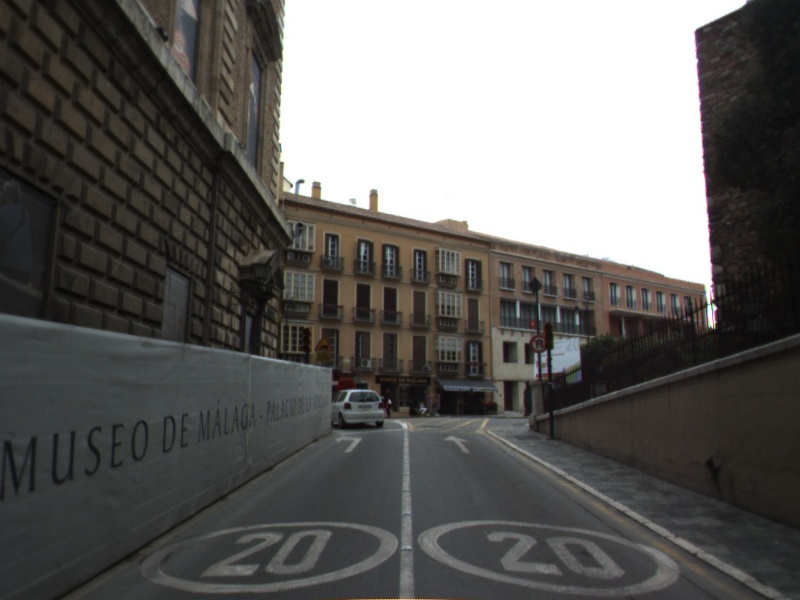LEFT: (334, 433, 364, 454)
STRAIGHT: (442, 433, 473, 454)
